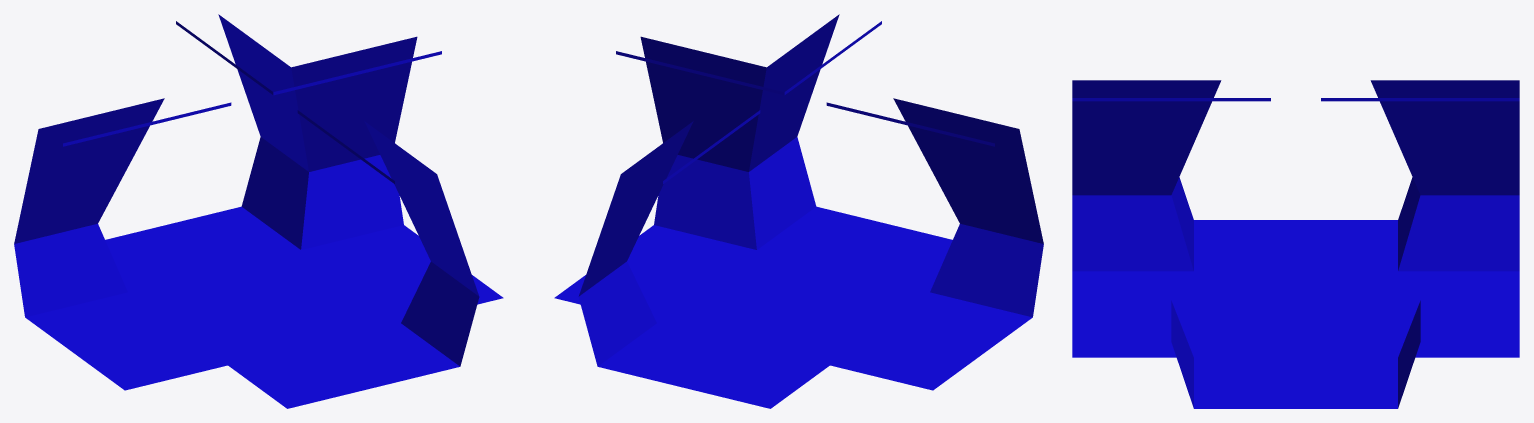
The model's file is corridor_segment.002.glb.
3 renders of one model, left to right at view 1: azimuth 30°, elevation 25°; view 2: azimuth 150°, elevation 25°; view 3: azimuth 270°, elevation 25°, orthographic. The views are drawn at different scales.
Parts seen in each view (by area): view 1: Corridor_segment.002; view 2: Corridor_segment.002; view 3: Corridor_segment.002.
Part boxes in pixels (<box>): Corridor_segment.002: <box>14,14,503,408</box>; Corridor_segment.002: <box>554,14,1043,408</box>; Corridor_segment.002: <box>1072,80,1519,408</box>.
Bounding box in the file's own units: 6 × 3.05 × 6.
